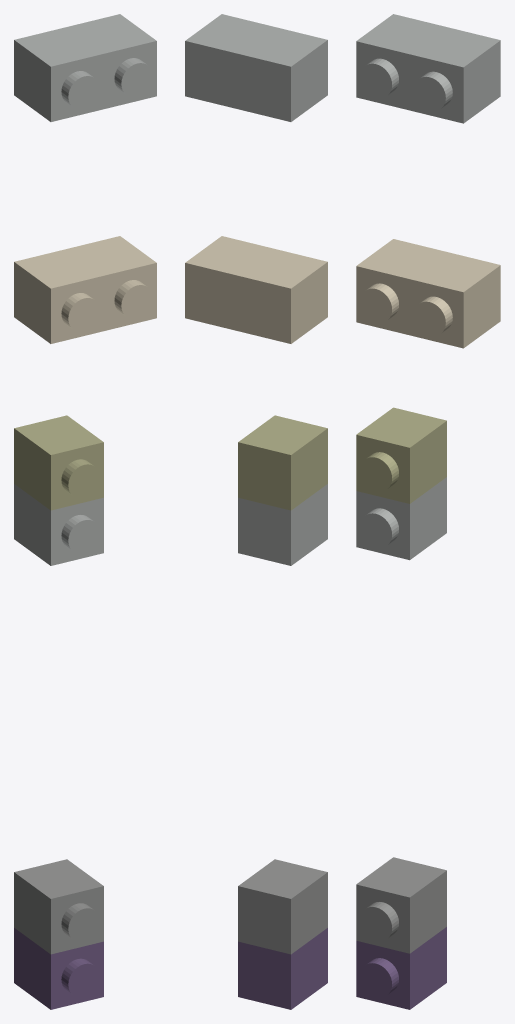
The model's file is current.glb.
3 views of the same model, side by side, from view 1: azimuth 30°, elevation 25°; view 2: azimuth 150°, elevation 25°; view 3: azimuth 330°, elevation 25° (orthographic).
Visible parts, largest first — view 1: world; view 2: world; view 3: world.
Part boxes in pixels (left/top/right/bottom): world: left=14, top=14, right=156, bottom=1009; world: left=185, top=14, right=327, bottom=1009; world: left=356, top=14, right=500, bottom=1009.
Bounding box in the file's own units: 16 × 136 × 11.4.
